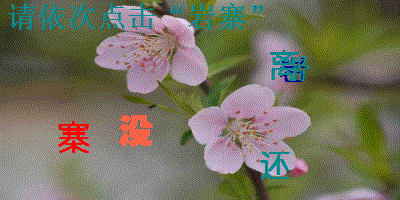result: (186, 2, 247, 32)
text: (54, 118, 94, 158), (118, 112, 155, 149), (259, 148, 292, 181), (268, 48, 299, 80), (278, 57, 309, 84), (288, 55, 311, 82)
